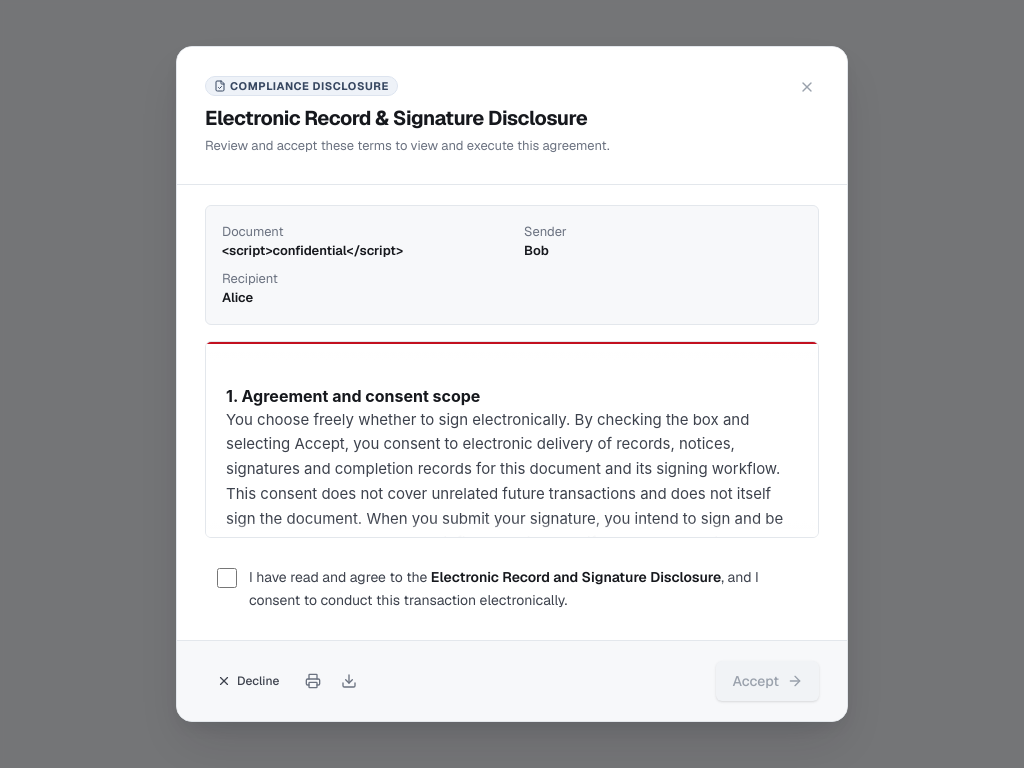
Test: ElectronicConsentModal (INK-99) › offers download when the print popup is blocked
The image size is (1024, 768).
Step 1. Click the button named "Print Disclosure" → x=313, y=681, box 299,667 -> 327,695
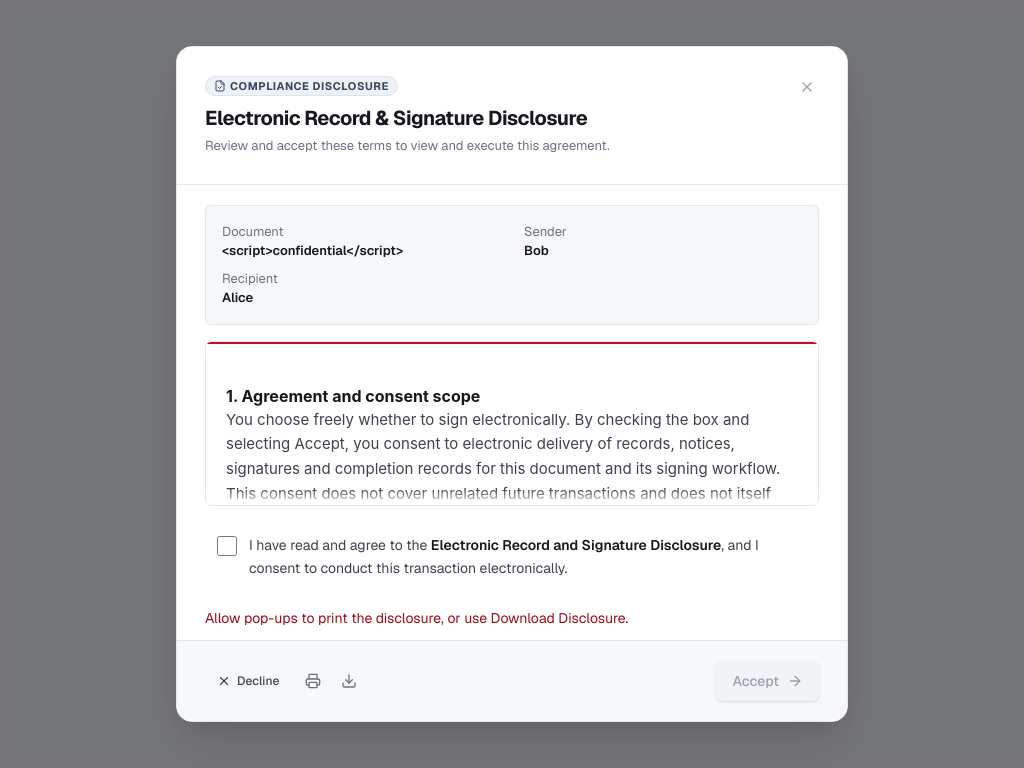
Result: the message shows "Download Disclosure" at 205,609 -> 628,627
